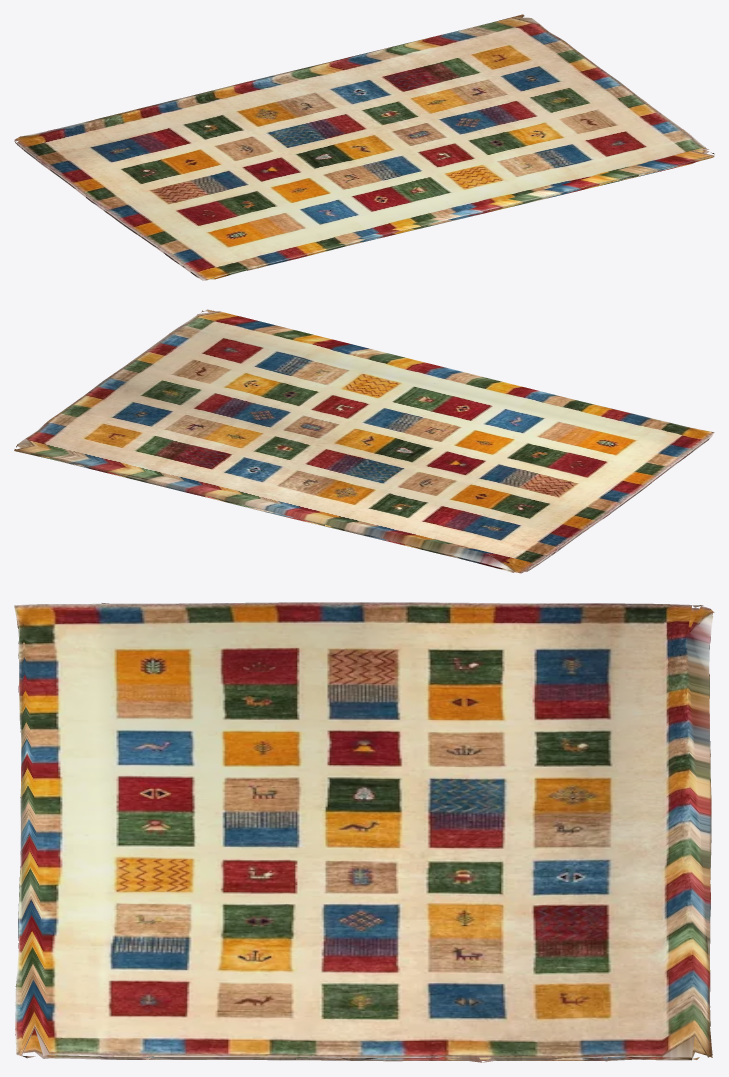
File: tappeto_b.glb
3 views of the same model, one above another, from view 1: azimuth 30°, elevation 25°; view 2: azimuth 150°, elevation 25°; view 3: azimuth 270°, elevation 25° (orthographic). The views are drawn at different scales.
Parts seen in each view (by area): view 1: Persian Qashqai Rug 245 x 154 cm_0; view 2: Persian Qashqai Rug 245 x 154 cm_0; view 3: Persian Qashqai Rug 245 x 154 cm_0.
Boxes of the visible parts, x1=… form: Persian Qashqai Rug 245 x 154 cm_0: x1=14, y1=14, x2=714, y2=280; Persian Qashqai Rug 245 x 154 cm_0: x1=14, y1=309, x2=714, y2=573; Persian Qashqai Rug 245 x 154 cm_0: x1=14, y1=602, x2=714, y2=1062.
Bounding box in the file's own units: 0.9931 × 0.0243 × 0.6439.
1 material, 1 textured.
